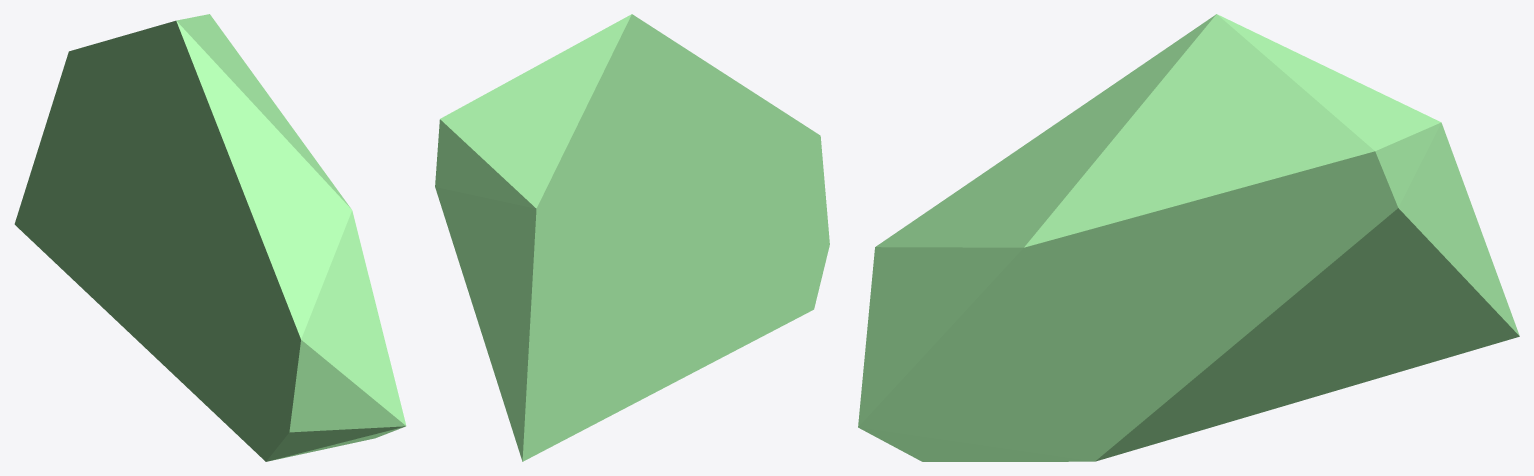
The model's file is UMIRobot_UMIRobot_link_5_convex_coll_44.dae.
3 renders of one model, left to right at view 1: azimuth 30°, elevation 25°; view 2: azimuth 150°, elevation 25°; view 3: azimuth 270°, elevation 25°, orthographic. The views are drawn at different scales.
Visible parts, largest first — view 1: node; view 2: node; view 3: node.
Boxes of the visible parts, x1,y1,x2,y2 form: node: [14, 14, 406, 461]; node: [435, 14, 829, 461]; node: [858, 14, 1519, 461].
Bounding box in the file's own units: 0.00238 × 0.00577 × 0.00852.
